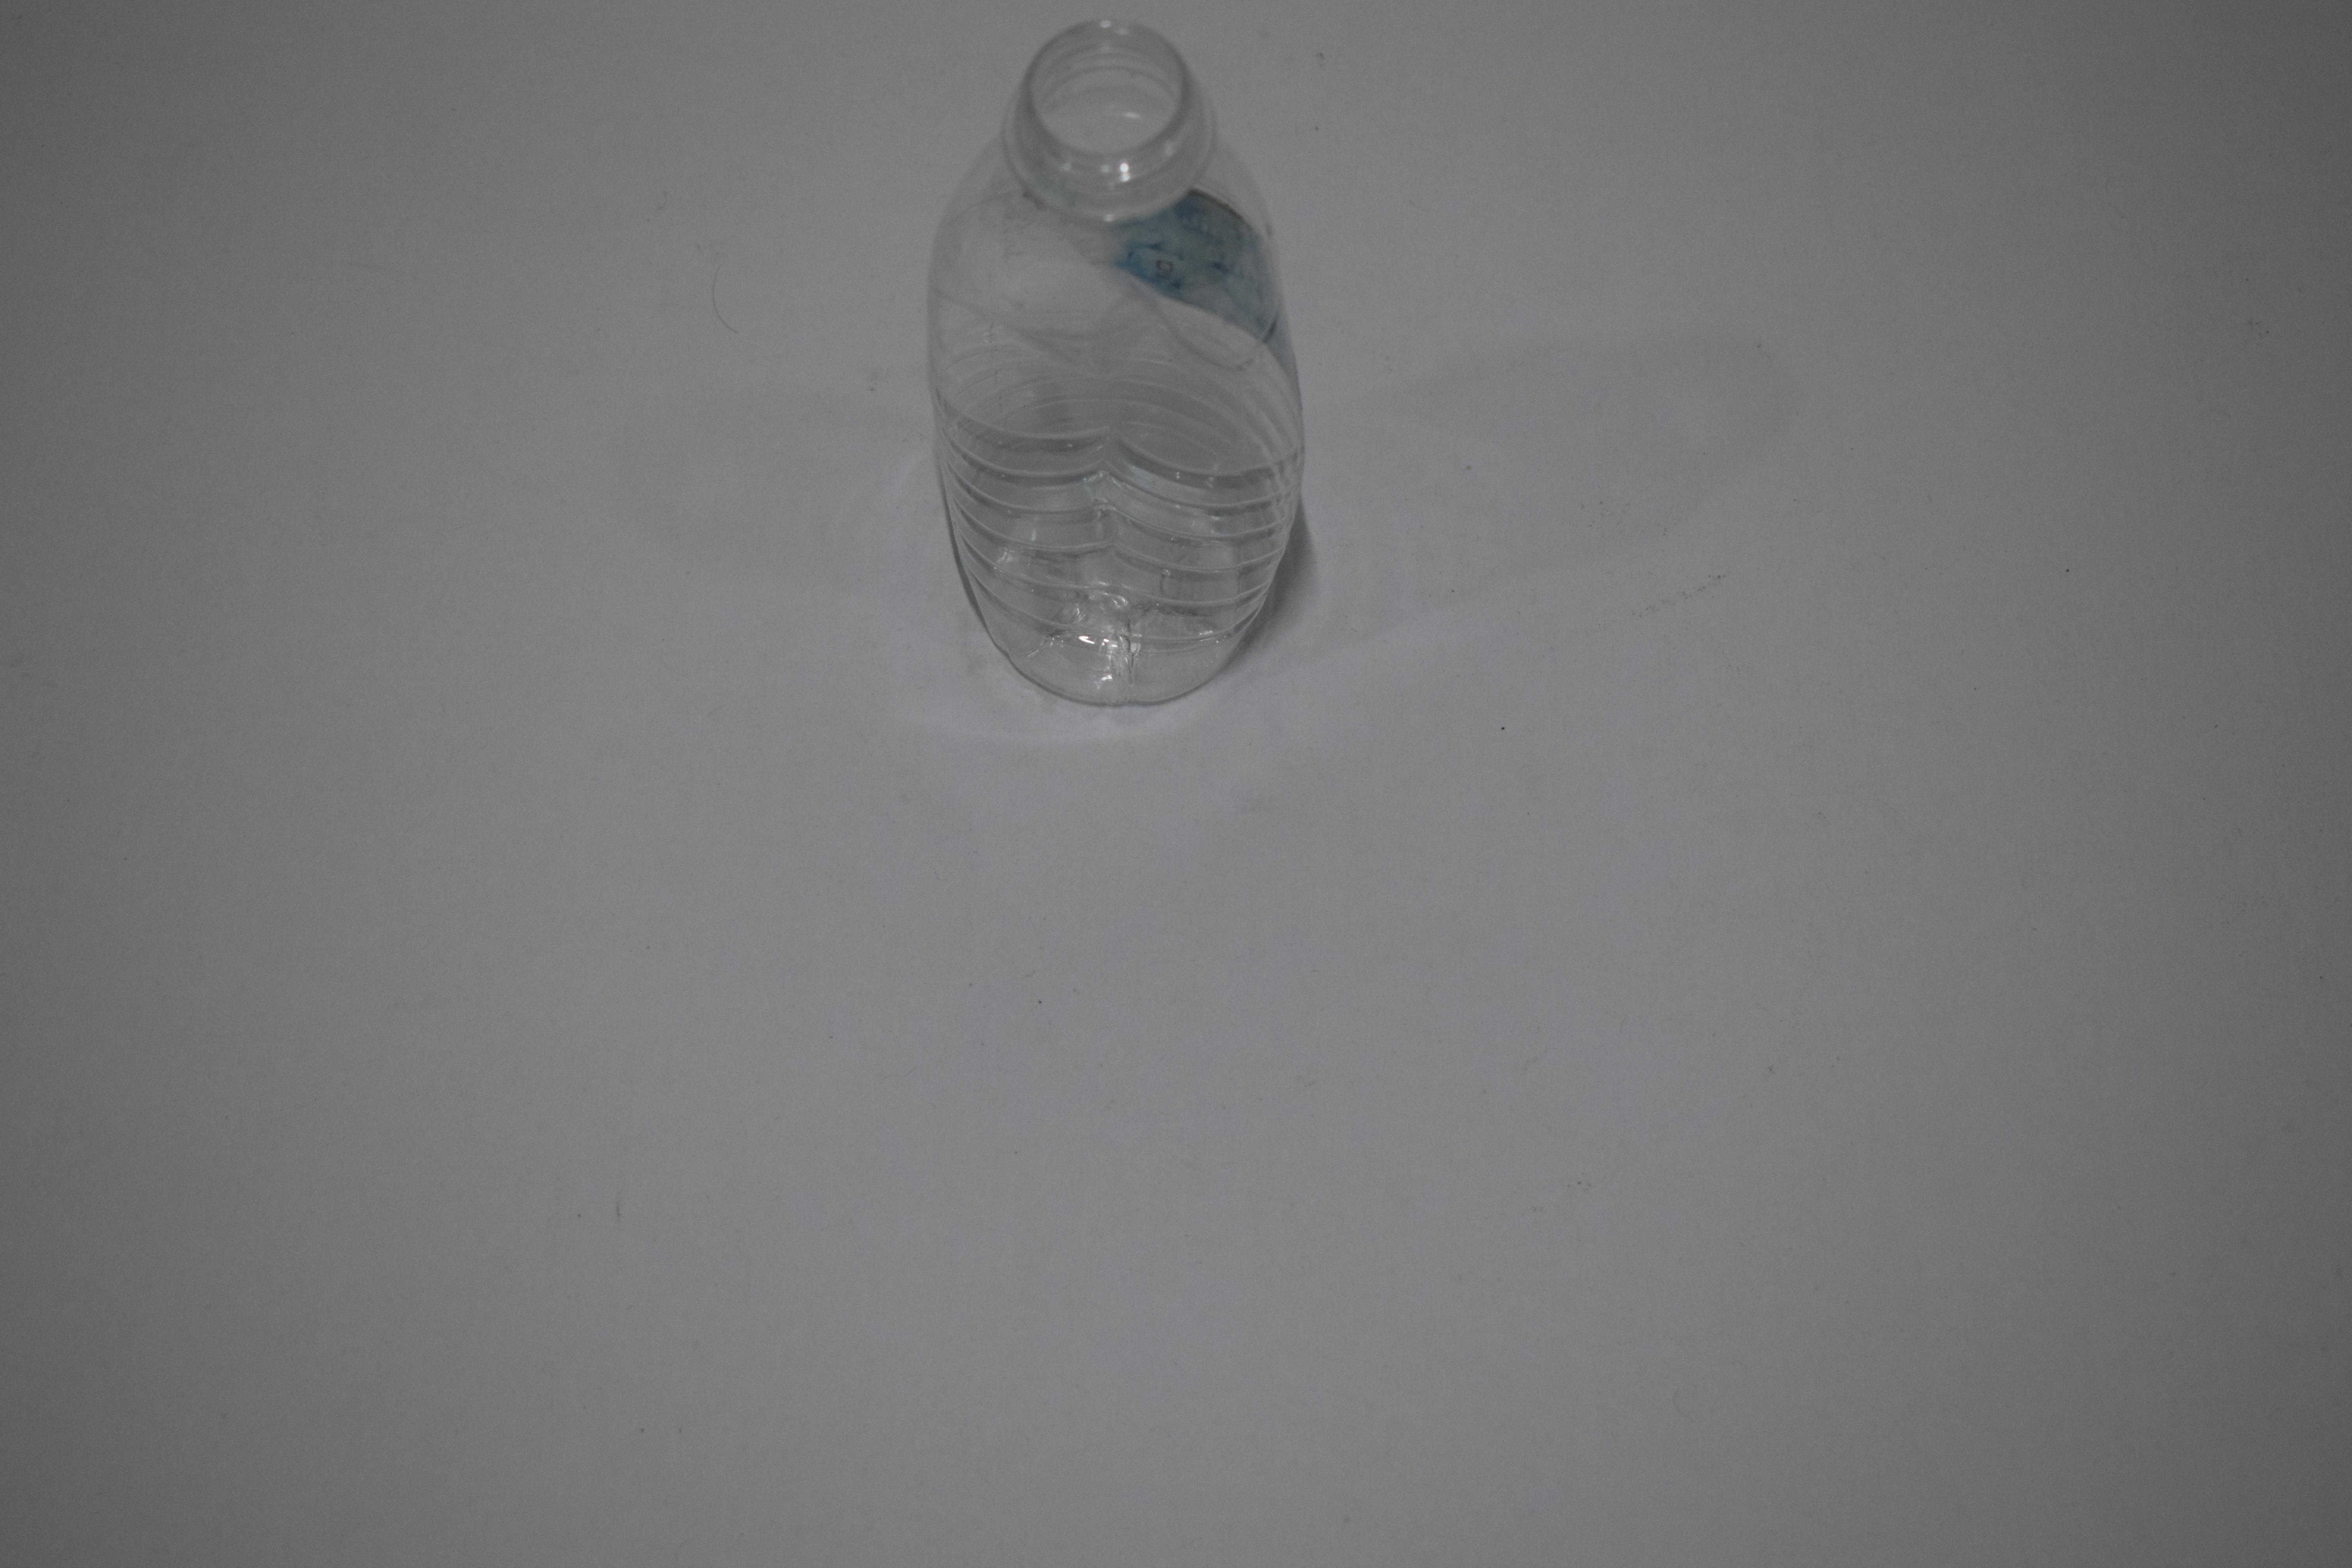bottle: (914, 47, 1318, 674)
